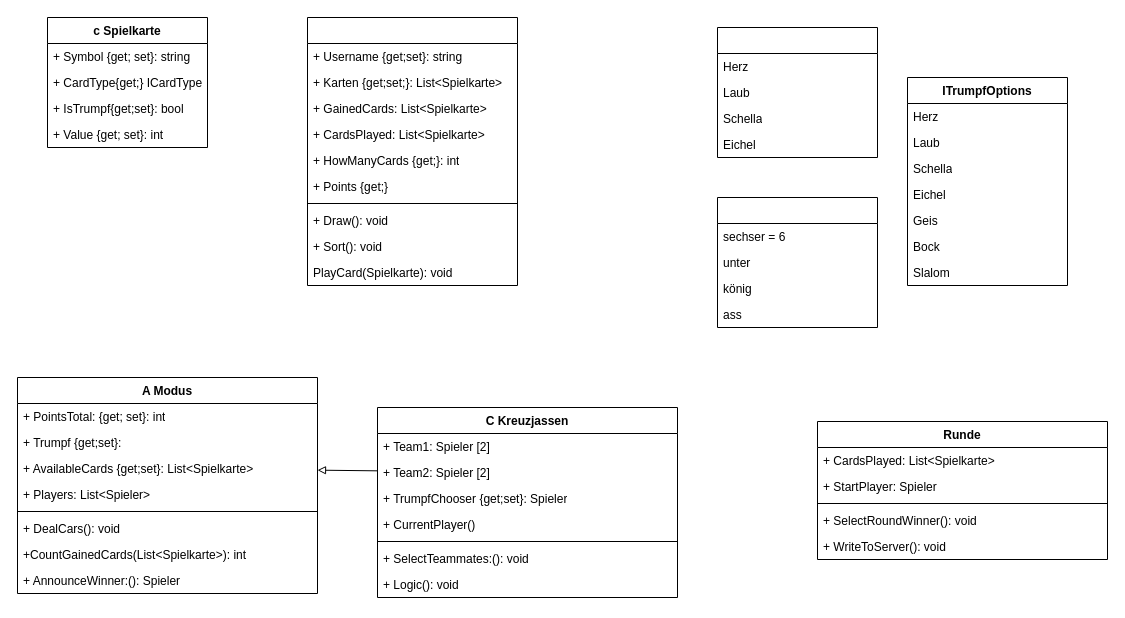
This 1125x618 diagram has some shape labels left out. Each missing label, with the box of its shape:
c Spieler: (306, 16, 518, 286)
ICardType: (716, 196, 878, 328)
ISymbol: (716, 26, 878, 158)
